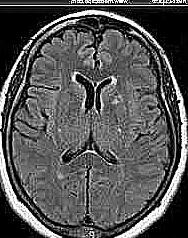Normal_Brain: (1, 8, 188, 238)
